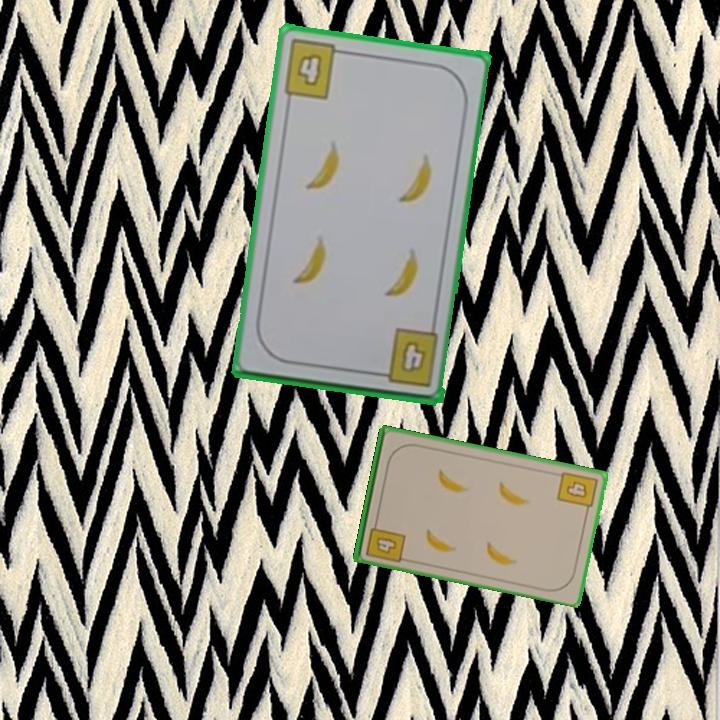4b: (279, 36, 350, 102), (372, 325, 441, 390), (553, 468, 600, 517), (362, 515, 408, 565)
